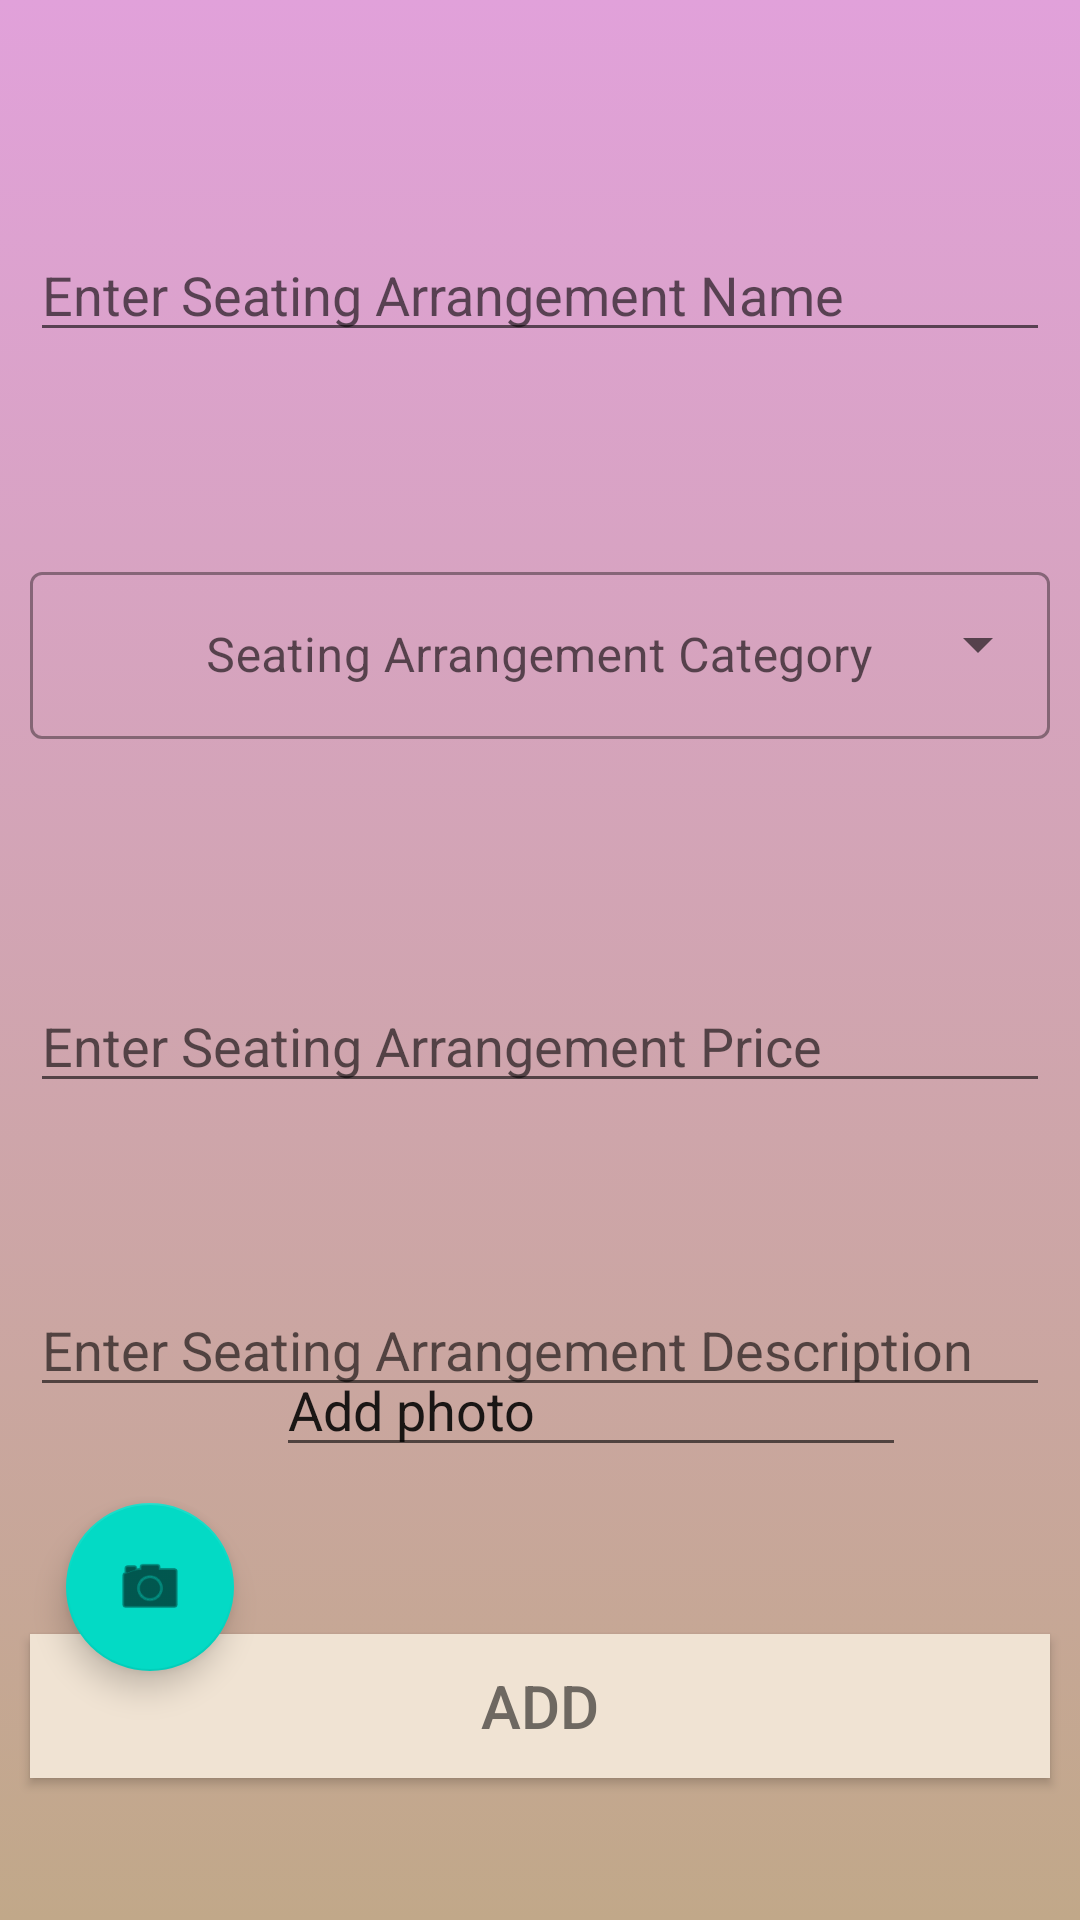

Point at icon controls on the screen. Image size 1080px×1920px, points as point (x, y).
camera: point (150, 1587)
